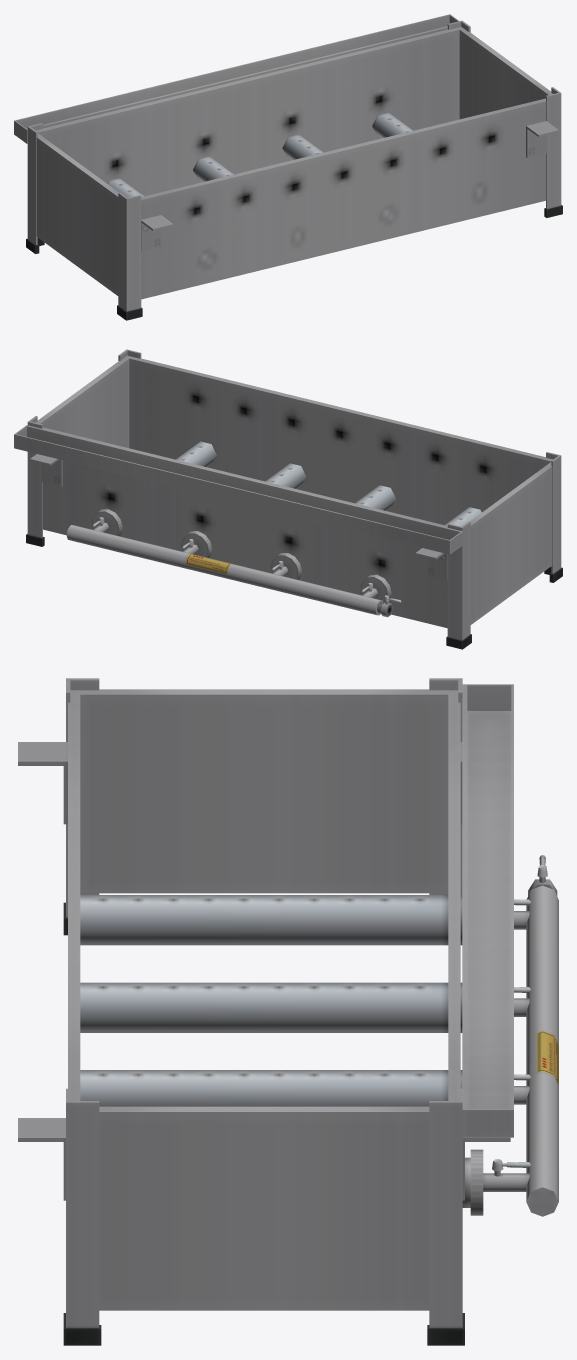
File: jsf_GasRange_03full.fbx
3 views of the same model, one above another, from view 1: azimuth 30°, elevation 25°; view 2: azimuth 150°, elevation 25°; view 3: azimuth 270°, elevation 25° (orthographic). The views are drawn at different scales.
Parts seen in each view (by area): view 1: GasRange03, Dustpan03, Stopper03; view 2: GasRange03, Dustpan03, Stopper03, AdjustmentDial_04, AdjustmentDial_02, AdjustmentDial_03, AdjustmentDial_01; view 3: GasRange03, Dustpan03, Stopper03, AdjustmentDial_04.
Part boxes in pixels (x1,y1,x2,y2): GasRange03: (26,20,562,320); Dustpan03: (14,14,459,143); Stopper03: (141,121,558,251); GasRange03: (26,349,562,649); Dustpan03: (14,425,462,554); Stopper03: (30,454,447,580); AdjustmentDial_04: (91,509,122,535); AdjustmentDial_02: (270,553,301,579); AdjustmentDial_03: (180,531,212,557); AdjustmentDial_01: (360,574,391,603); GasRange03: (63,678,558,1345); Dustpan03: (462,684,513,1137); Stopper03: (18,742,510,1200); AdjustmentDial_04: (470,1149,483,1215).
Size of the model in its own units: 90.7 by 24 by 48.65.
